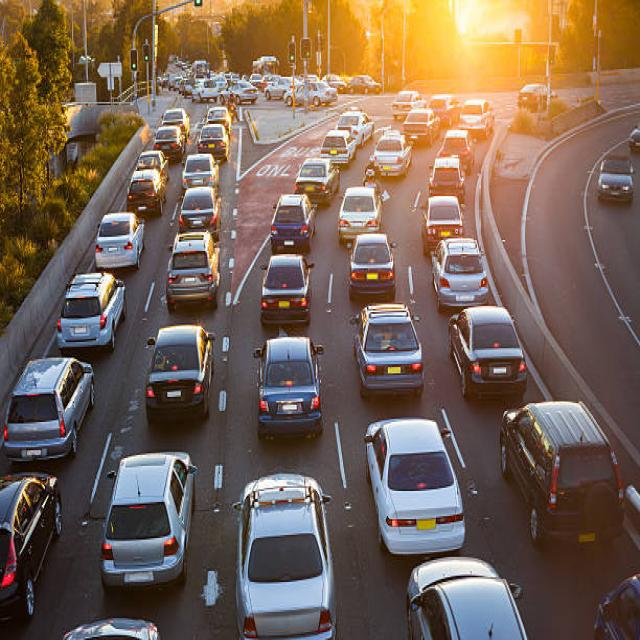Car: (499, 398, 625, 546), (232, 472, 337, 639), (363, 416, 465, 555), (99, 450, 197, 590), (405, 556, 528, 638), (2, 356, 95, 463), (0, 471, 62, 621), (252, 334, 324, 439), (349, 301, 425, 399), (448, 304, 527, 398), (144, 323, 216, 424), (56, 270, 126, 351), (430, 235, 488, 311), (165, 230, 220, 310), (259, 253, 314, 326), (348, 232, 396, 298), (593, 572, 639, 638), (94, 212, 144, 270), (269, 192, 317, 252), (420, 194, 464, 256), (337, 185, 382, 245), (178, 185, 220, 239), (293, 157, 340, 205), (62, 616, 160, 638), (371, 130, 412, 177), (126, 168, 165, 216), (428, 154, 465, 204), (597, 154, 635, 202), (457, 97, 494, 140), (402, 107, 440, 146), (181, 152, 218, 192), (335, 110, 374, 147), (320, 128, 357, 164), (196, 122, 229, 162), (391, 88, 426, 121), (518, 84, 548, 112), (627, 124, 639, 149)
Traffic-light: (287, 39, 295, 63), (142, 42, 150, 62), (130, 48, 137, 70)
